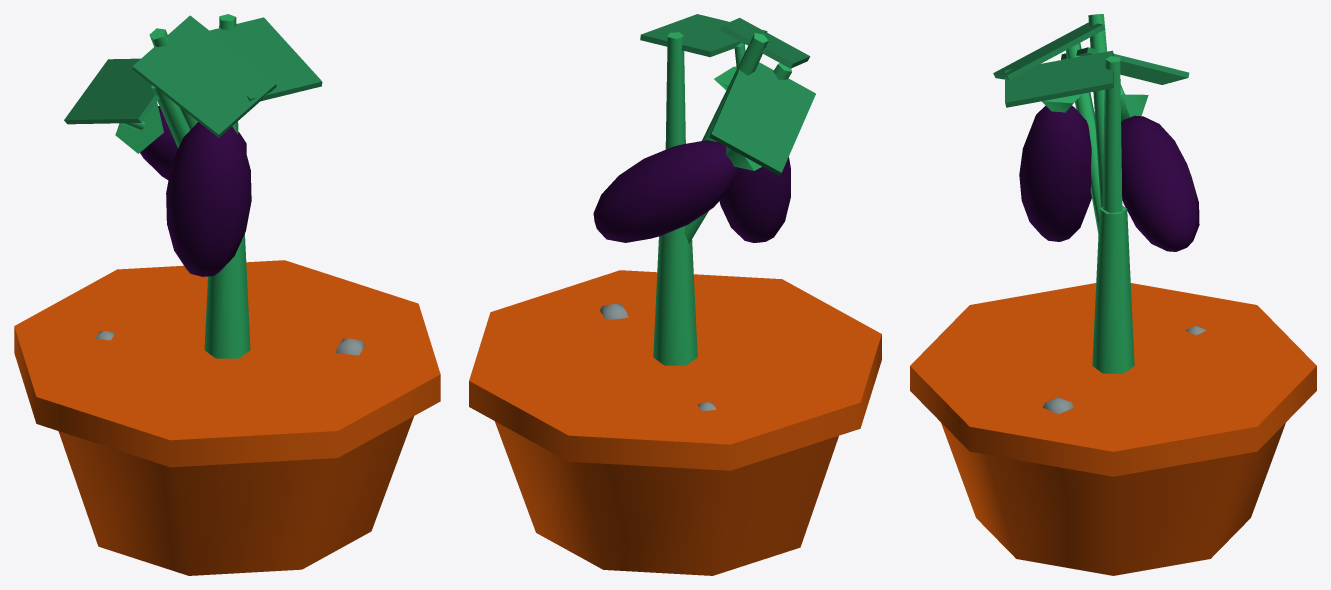
File: eggplant.glb
3 renders of one model, left to right at view 1: azimuth 30°, elevation 25°; view 2: azimuth 150°, elevation 25°; view 3: azimuth 270°, elevation 25°, orthographic. The views are drawn at different scales.
Visible parts, largest first — view 1: rim, pot, eggplant_fruit (×2), leaf_1, main_stem, leaf_2, leaf_top, branch_2; view 2: rim, pot, eggplant_fruit (×2), leaf_2, main_stem, leaf_top, branch_top, leaf_1, branch_1; view 3: rim, pot, eggplant_fruit (×2), main_stem, leaf_top, branch_top, leaf_1, leaf_2, branch_2, branch_1.
Part boxes in pixels (x1,y1,x2,y2): rim: (14,260,440,467); pot: (58,416,413,575); eggplant_fruit (×2): (115,102,251,276); leaf_1: (132,15,276,137); main_stem: (204,234,250,358); leaf_2: (64,58,159,124); leaf_top: (210,17,322,101); branch_2: (151,85,190,148); rim: (469,270,881,470); pot: (494,421,838,575); eggplant_fruit (×2): (593,43,790,242); leaf_2: (709,62,815,175); main_stem: (653,226,697,365); leaf_top: (640,14,767,57); branch_top: (665,32,685,149); leaf_1: (720,18,810,68); branch_1: (702,33,768,142); rim: (910,283,1316,476); pot: (941,423,1285,575); eggplant_fruit (×2): (1019,60,1199,251); main_stem: (1092,205,1134,373); leaf_top: (1005,50,1113,107); branch_top: (1102,56,1122,213); leaf_1: (993,22,1105,80); leaf_2: (1061,47,1189,84); branch_2: (1065,43,1100,234); branch_1: (1088,14,1107,207).
Size of the model in its own units: 0.74 by 0.9515 by 0.74.
